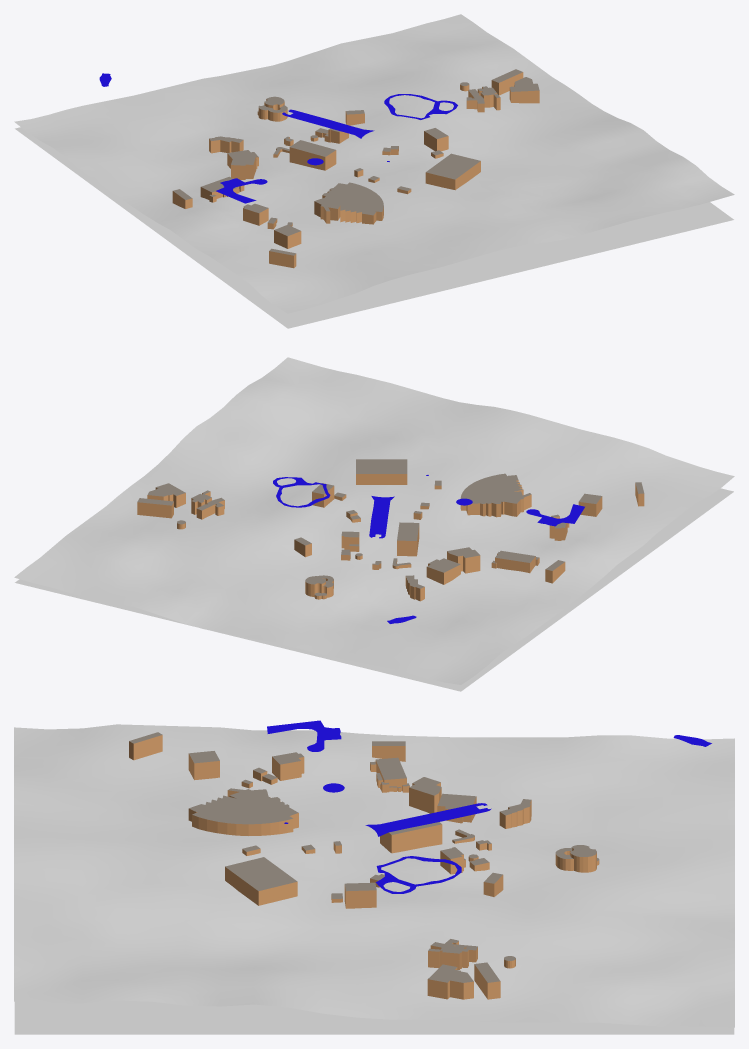
Rendered from groundpark.gltf.
The picture shows the model from 3 angles, top to bottom: view 1: azimuth 30°, elevation 25°; view 2: azimuth 150°, elevation 25°; view 3: azimuth 270°, elevation 25°; orthographic projection. The views are drawn at different scales.
Parts seen in each view (by area): view 1: Terrain, Terrain_envelope, map_6.osm_buildings, map_6.osm_water; view 2: Terrain, map_6.osm_buildings, Terrain_envelope, map_6.osm_water; view 3: Terrain, map_6.osm_buildings, Terrain_envelope, map_6.osm_water.
Boxes of the visible parts, <box> form: Terrain: <box>14,14,734,313</box>; Terrain_envelope: <box>15,127,733,328</box>; map_6.osm_buildings: <box>172,69,539,268</box>; map_6.osm_water: <box>99,73,457,203</box>; Terrain: <box>14,357,734,684</box>; map_6.osm_buildings: <box>137,459,644,601</box>; Terrain_envelope: <box>15,488,733,691</box>; map_6.osm_water: <box>273,475,584,623</box>; Terrain: <box>14,724,734,1027</box>; map_6.osm_buildings: <box>129,732,599,999</box>; Terrain_envelope: <box>14,1000,734,1034</box>; map_6.osm_water: <box>267,720,711,893</box>.
Size of the model in its own units: 612 by 55 by 649.
